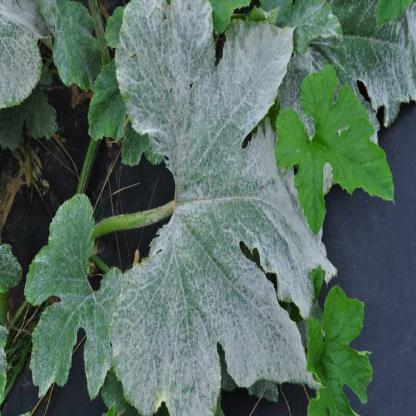Squash Powdery mildew leaf: (20, 1, 320, 412)
